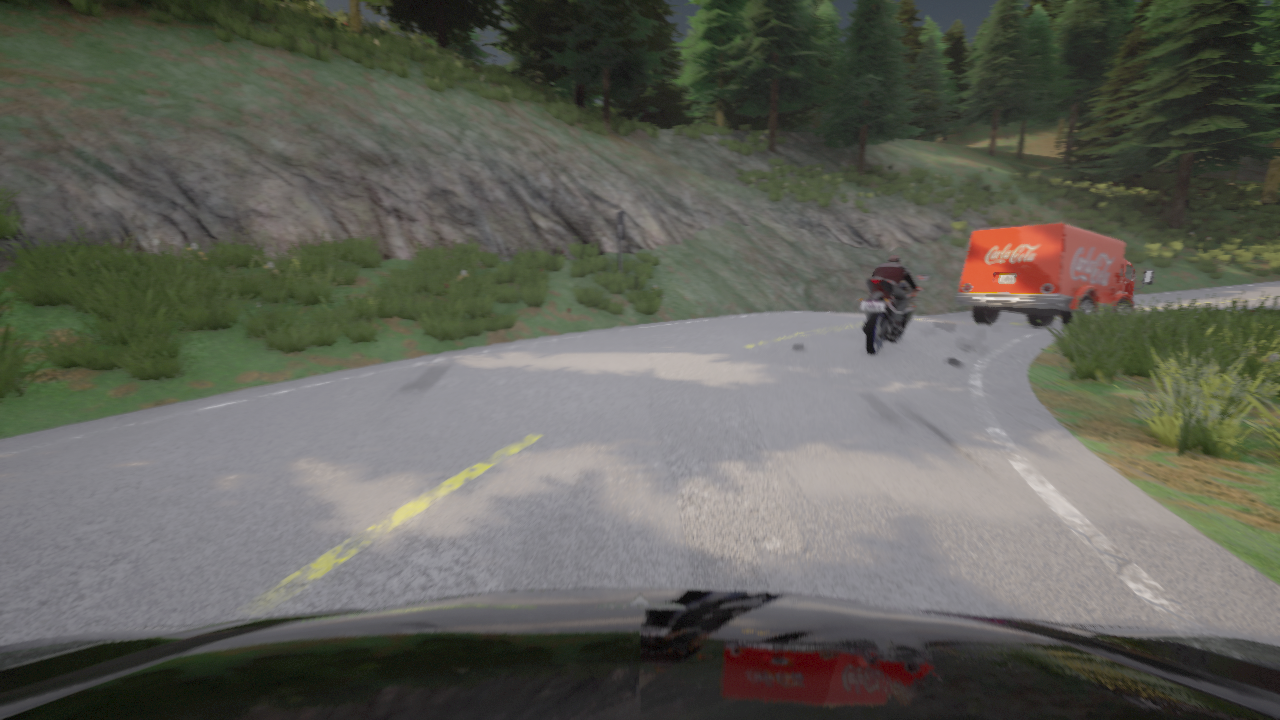cyclist: (0, 588, 1279, 719), (954, 222, 1154, 326), (858, 274, 928, 355)
